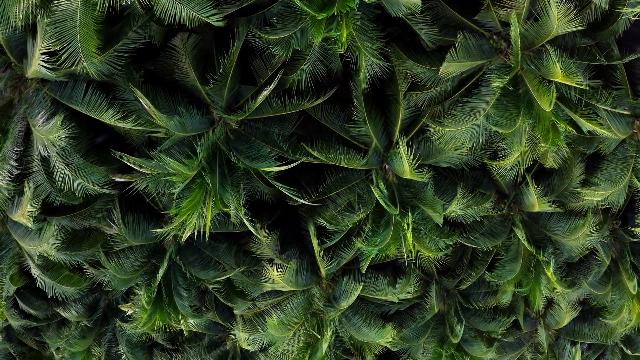trees: (150, 18, 317, 133), (7, 86, 124, 218), (330, 160, 468, 271), (463, 25, 570, 110), (489, 153, 588, 243), (9, 214, 113, 290), (5, 3, 72, 77), (555, 4, 639, 56), (299, 279, 368, 341), (527, 48, 590, 93), (413, 272, 467, 320)
